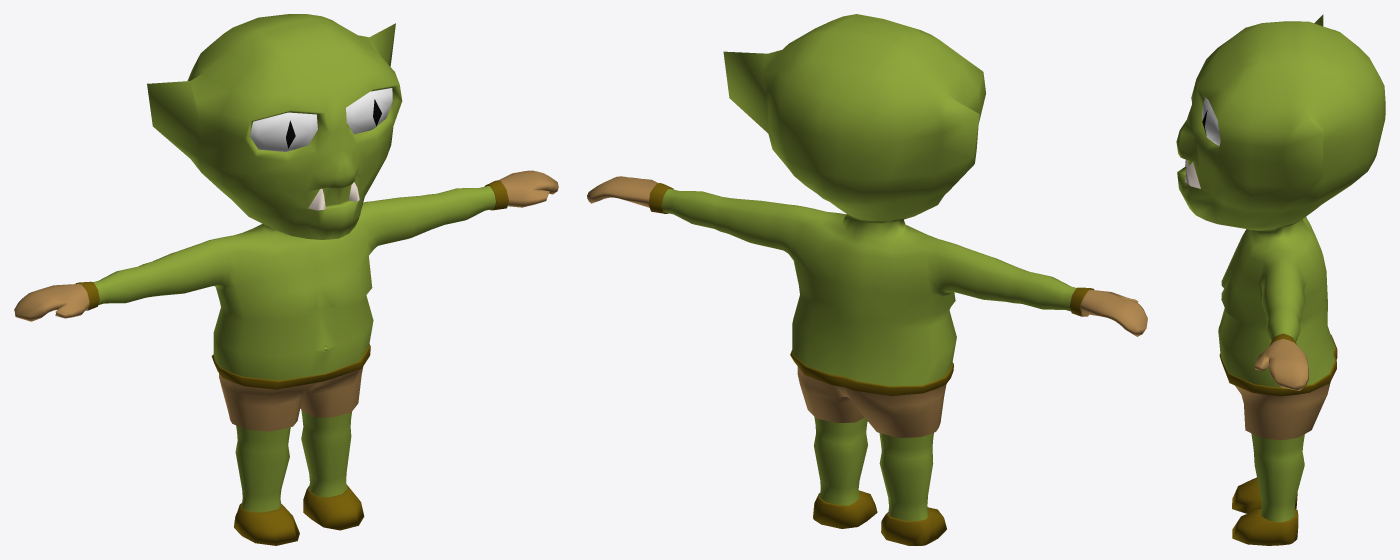
Rendered from ogre.fbx.
3 renders of one model, left to right at view 1: azimuth 30°, elevation 25°; view 2: azimuth 150°, elevation 25°; view 3: azimuth 270°, elevation 25°, orthographic. The views are drawn at different scales.
Visible parts, largest first — view 1: ogre; view 2: ogre; view 3: ogre.
Boxes of the visible parts, x1,y1,x2,y2 form: ogre: [14, 14, 558, 545]; ogre: [587, 14, 1147, 545]; ogre: [1176, 14, 1385, 545].
Size of the model in its own units: 221 by 191 by 74.47.
